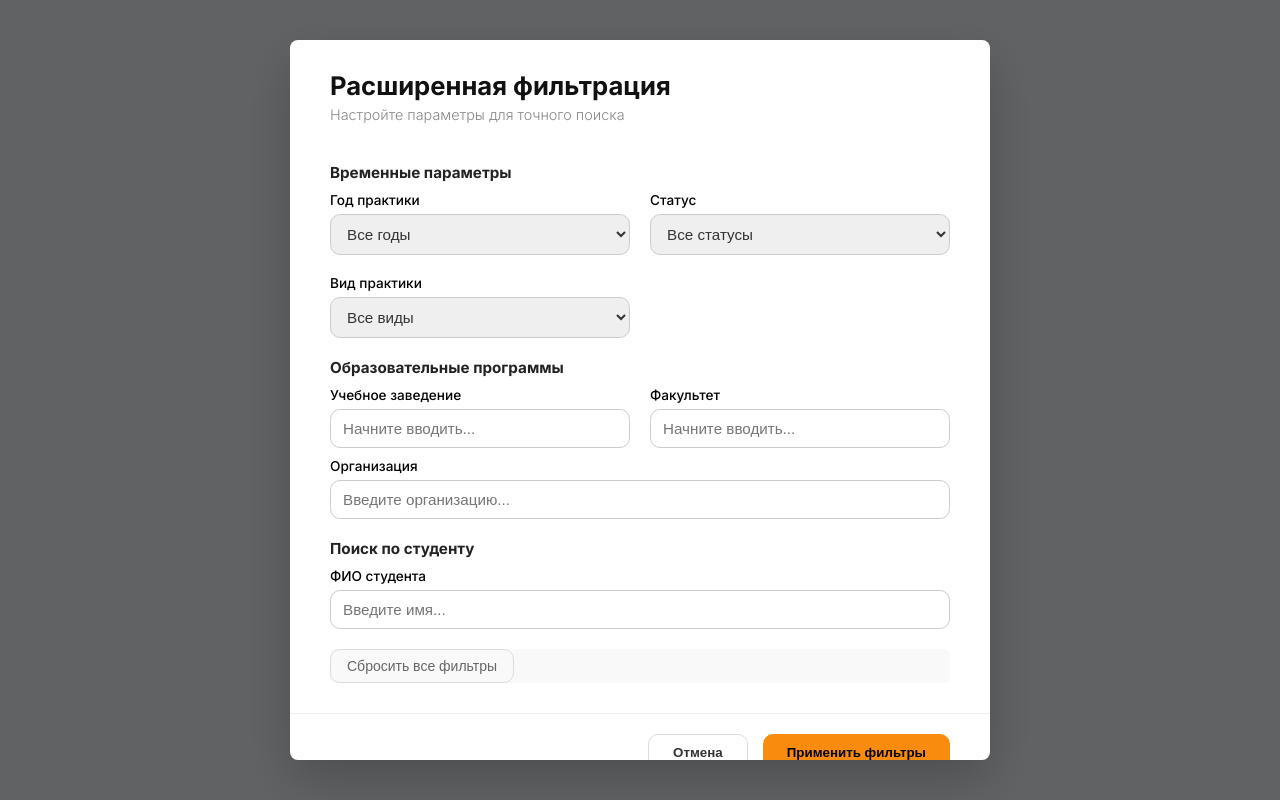
it: FilterModal › Автокомплит фильтров › должен заполнять поле при выборе подсказки
This screenshot has width=1280, height=800.
Type "Ива" into the field with placeholder "Введите имя...". click: [640, 610]
box: top-left (330, 590), bottom-right (950, 629)
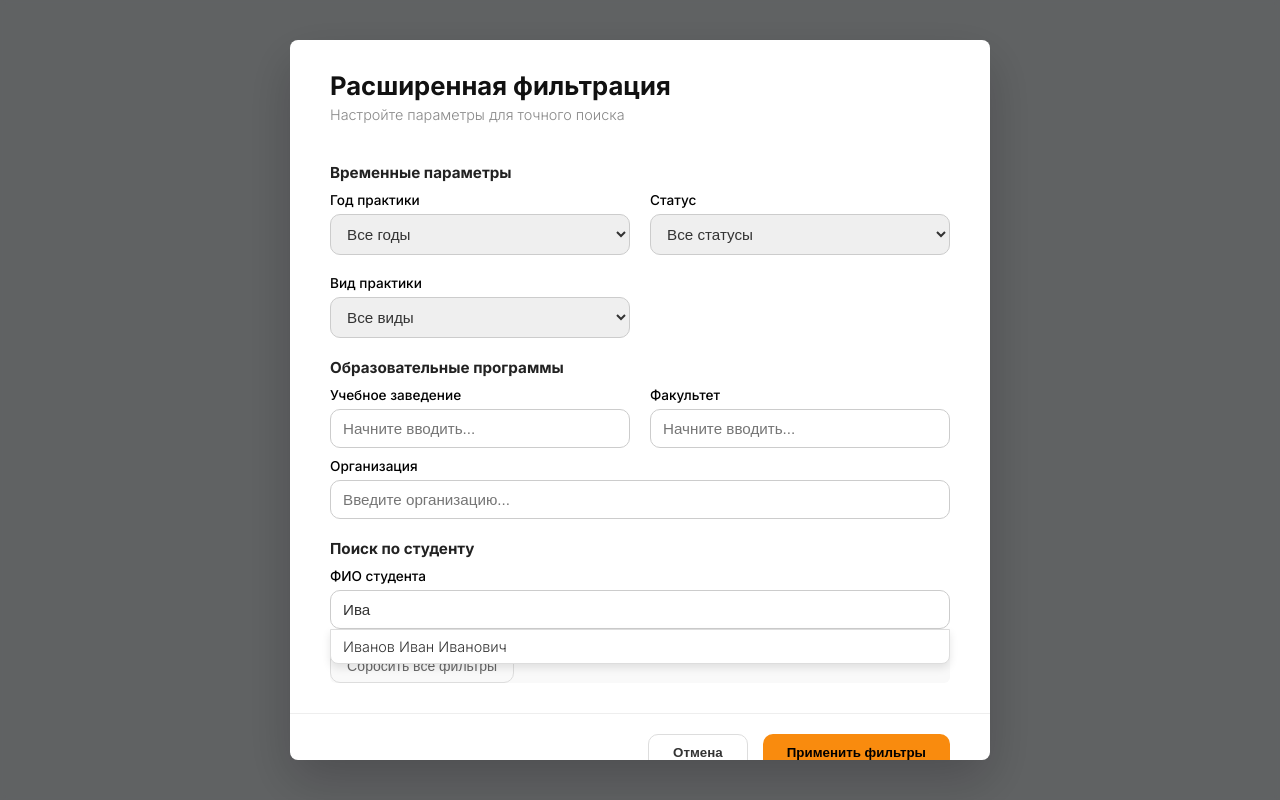
Click the text "Иванов Иван Иванович". click: [425, 646]
box: top-left (343, 638), bottom-right (507, 655)
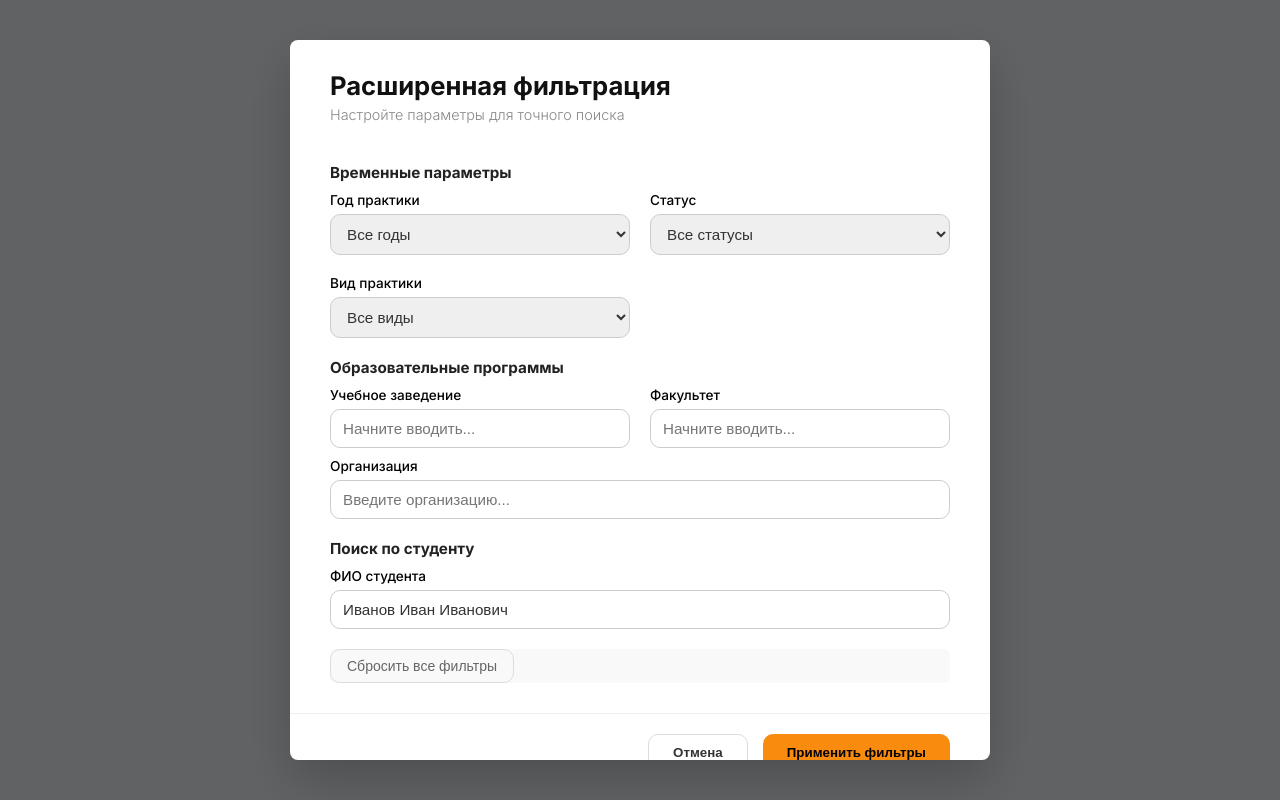
Expected: the field with placeholder "Введите имя..." holds "Иванов Иван Иванович", top-left (330, 590), bottom-right (950, 629)
